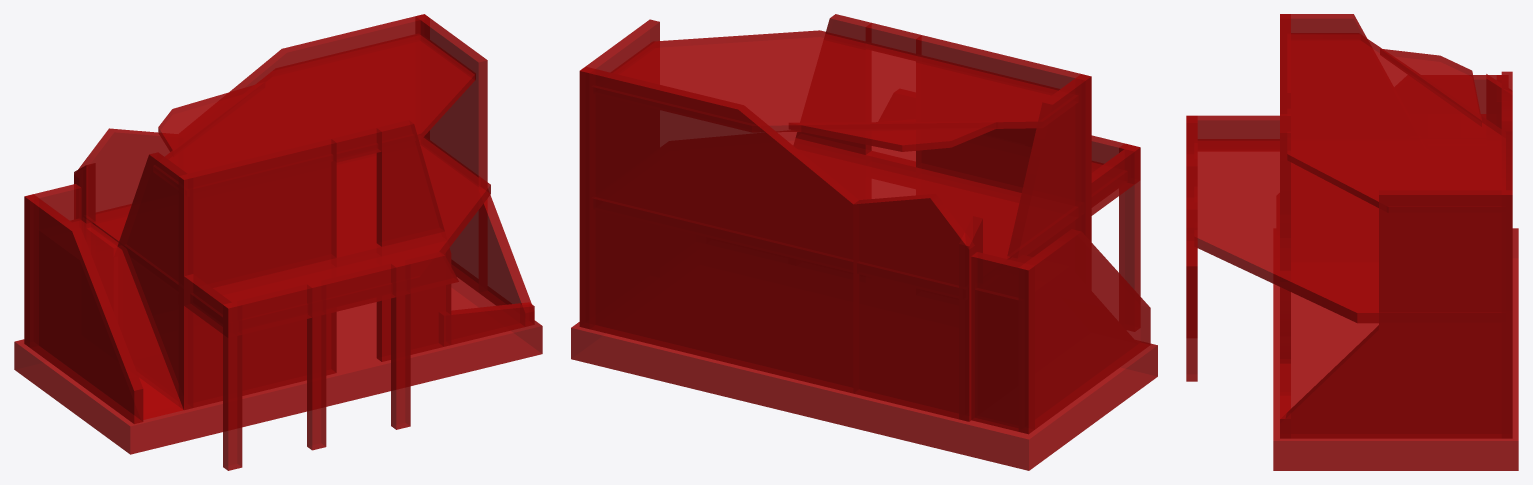
The model's file is SM_Bld_Village_House_03_Destroyed_Collision.fbx.
3 views of the same model, side by side, from view 1: azimuth 30°, elevation 25°; view 2: azimuth 150°, elevation 25°; view 3: azimuth 270°, elevation 25° (orthographic). The views are drawn at different scales.
Parts seen in each view (by area): view 1: SM_Bld_Village_House_03_Destroyed_Collision; view 2: SM_Bld_Village_House_03_Destroyed_Collision; view 3: SM_Bld_Village_House_03_Destroyed_Collision.
Part boxes in pixels (x1,y1,x2,y2): SM_Bld_Village_House_03_Destroyed_Collision: [14, 14, 542, 470]; SM_Bld_Village_House_03_Destroyed_Collision: [571, 14, 1157, 470]; SM_Bld_Village_House_03_Destroyed_Collision: [1186, 14, 1518, 470].
Bounding box in the file's own units: 1124 × 674 × 742.
